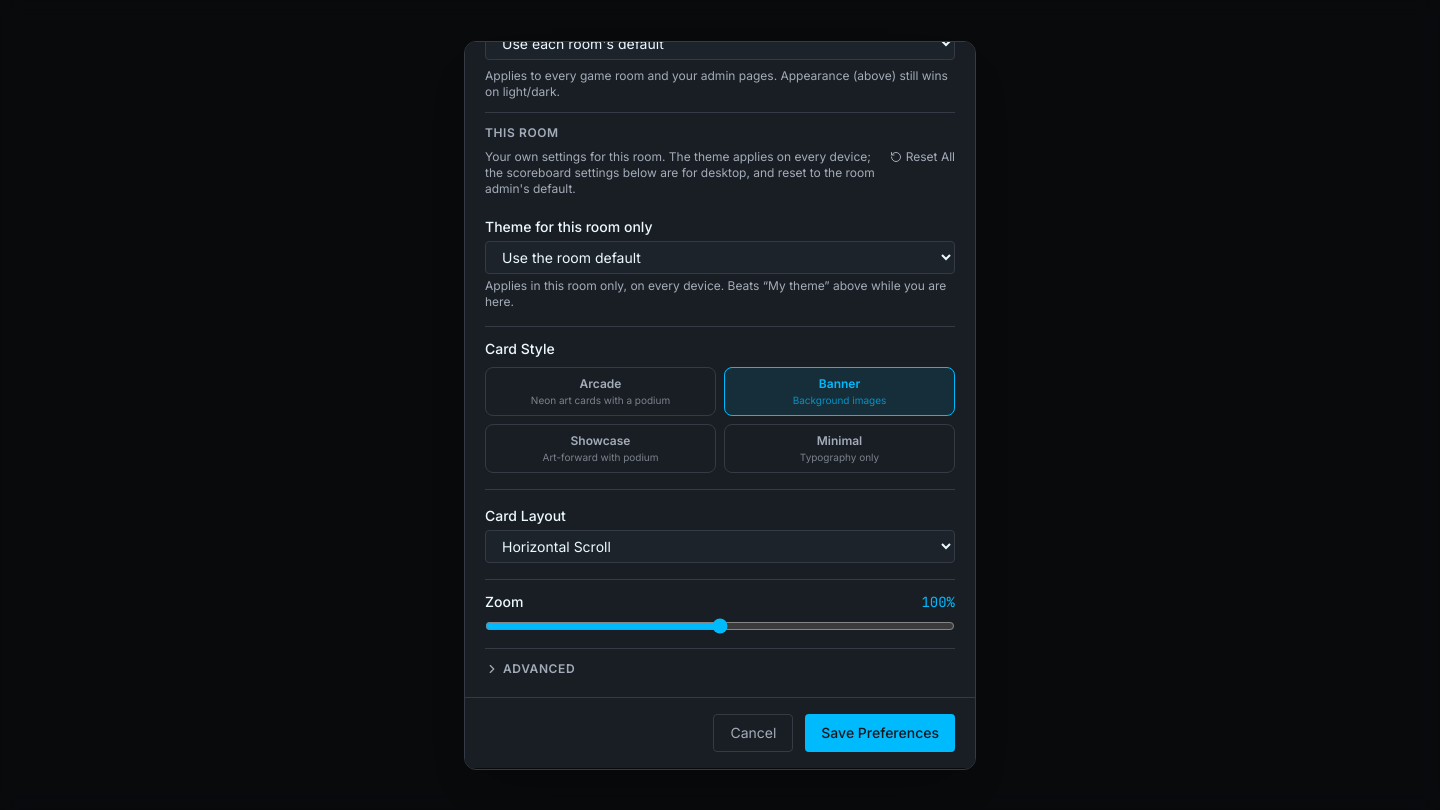
Test: ScoreboardPreferencesModal — P3 tiering › groups the Advanced controls under captions
The image size is (1440, 810).
(page scrolled)
Expected: the text "Card Style" is shown, 485,338 -> 555,358
What coordinates should you click on to do the following:
click the button "Advanced"
I would click on:
 (539, 669)
Its box is 485,657 -> 955,681.
(page scrolled)
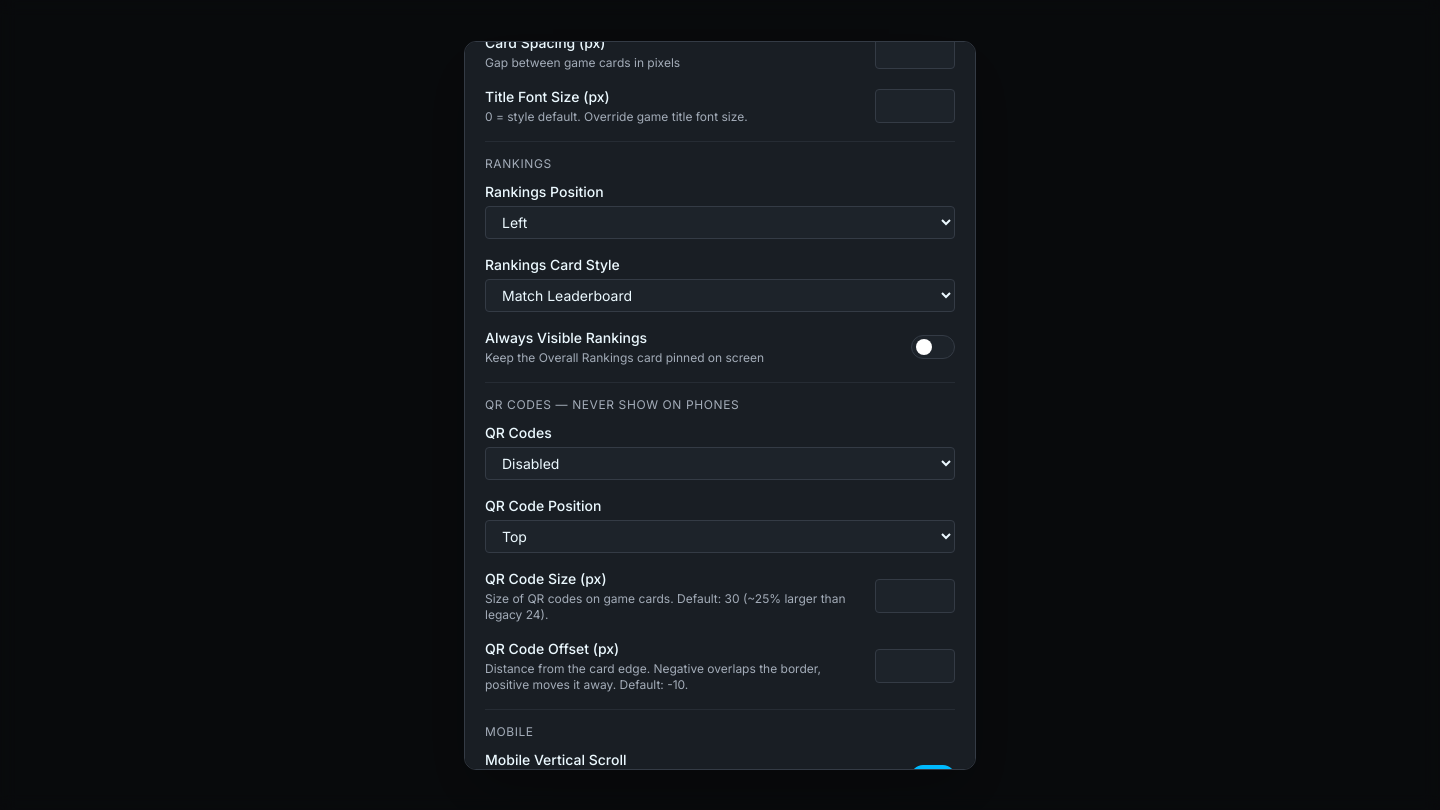
Expected: the text "Rankings" is shown, 485,156 -> 552,171
Expected: the text "QR codes — never show on phones" is shown, 485,397 -> 739,412
